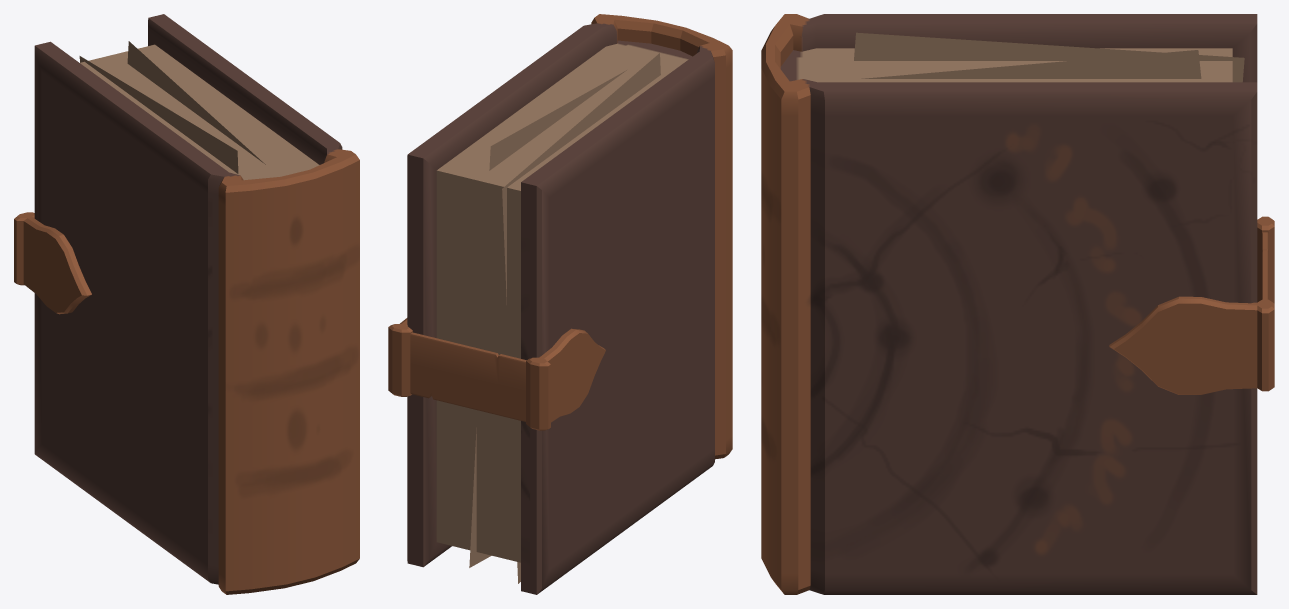
File: Book_A_Med.fbx
3 renders of one model, left to right at view 1: azimuth 30°, elevation 25°; view 2: azimuth 150°, elevation 25°; view 3: azimuth 270°, elevation 25°, orthographic. The views are drawn at different scales.
Parts seen in each view (by area): view 1: Book_A_Med; view 2: Book_A_Med; view 3: Book_A_Med.
Boxes of the visible parts, x1,y1,x2,y2 form: Book_A_Med: [14, 14, 359, 594]; Book_A_Med: [388, 14, 732, 594]; Book_A_Med: [761, 14, 1274, 594].
Size of the model in its own units: 0.1403 by 0.3628 by 0.3164.
